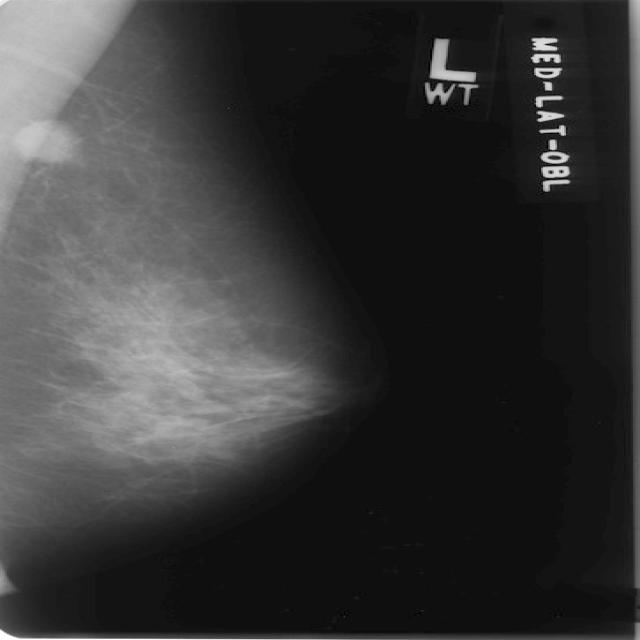tumour: (12, 120, 80, 165)
